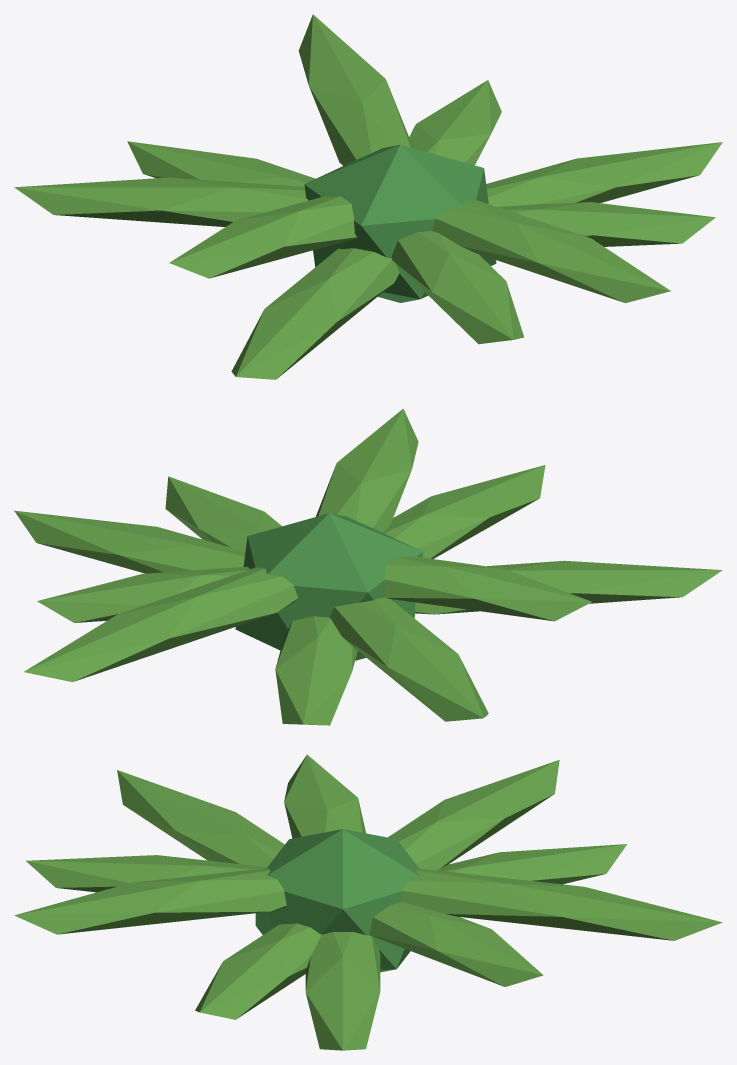
The model's file is fern_cluster_1p2m.glb.
3 renders of one model, top to bottom at view 1: azimuth 30°, elevation 25°; view 2: azimuth 150°, elevation 25°; view 3: azimuth 270°, elevation 25°, orthographic. The views are drawn at different scales.
Parts seen in each view (by area): view 1: fern_crown, fern_frond_09, fern_frond_07, fern_frond_05, fern_frond_03, fern_frond_01, fern_frond_08, fern_frond_06, fern_frond_10, fern_frond_04, fern_frond_02; view 2: fern_crown, fern_frond_03, fern_frond_05, fern_frond_06, fern_frond_01, fern_frond_08, fern_frond_09, fern_frond_04, fern_frond_07, fern_frond_02, fern_frond_10; view 3: fern_crown, fern_frond_03, fern_frond_09, fern_frond_05, fern_frond_01, fern_frond_07, fern_frond_02, fern_frond_10, fern_frond_08, fern_frond_04, fern_frond_06.
Part boxes in pixels (x1=…): fern_crown: x1=304, y1=144, x2=496, y2=302; fern_frond_09: x1=432, y1=199, x2=670, y2=303; fern_frond_07: x1=231, y1=248, x2=399, y2=379; fern_frond_05: x1=14, y1=177, x2=308, y2=226; fern_frond_03: x1=298, y1=14, x2=413, y2=165; fern_frond_01: x1=486, y1=142, x2=722, y2=206; fern_frond_08: x1=391, y1=231, x2=523, y2=344; fern_frond_06: x1=169, y1=196, x2=357, y2=278; fern_frond_10: x1=498, y1=202, x2=715, y2=246; fern_frond_04: x1=127, y1=141, x2=315, y2=186; fern_frond_02: x1=409, y1=80, x2=501, y2=165; fern_crown: x1=235, y1=513, x2=423, y2=660; fern_frond_03: x1=24, y1=567, x2=297, y2=681; fern_frond_05: x1=329, y1=597, x2=488, y2=721; fern_frond_06: x1=384, y1=556, x2=591, y2=621; fern_frond_01: x1=14, y1=510, x2=245, y2=573; fern_frond_08: x1=383, y1=465, x2=545, y2=558; fern_frond_09: x1=316, y1=408, x2=418, y2=532; fern_frond_04: x1=275, y1=616, x2=357, y2=725; fern_frond_07: x1=415, y1=560, x2=722, y2=614; fern_frond_02: x1=37, y1=566, x2=249, y2=622; fern_frond_10: x1=165, y1=476, x2=281, y2=551; fern_crown: x1=255, y1=829, x2=419, y2=972; fern_frond_03: x1=400, y1=868, x2=722, y2=940; fern_frond_09: x1=14, y1=868, x2=286, y2=934; fern_frond_05: x1=388, y1=760, x2=559, y2=870; fern_frond_01: x1=305, y1=932, x2=380, y2=1050; fern_frond_07: x1=117, y1=770, x2=284, y2=866; fern_frond_02: x1=369, y1=902, x2=543, y2=986; fern_frond_10: x1=195, y1=923, x2=321, y2=1019; fern_frond_08: x1=26, y1=855, x2=267, y2=892; fern_frond_04: x1=436, y1=844, x2=626, y2=884; fern_frond_06: x1=284, y1=754, x2=365, y2=838.
Size of the model in its own units: 1.36 by 0.34 by 1.45.
